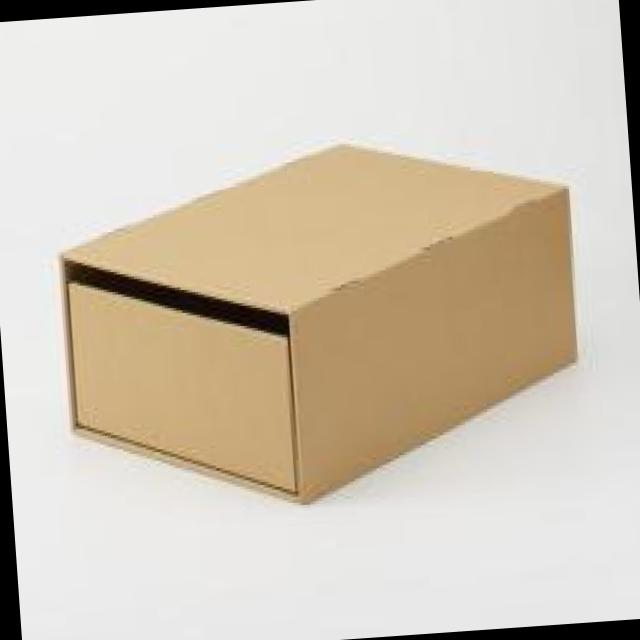box: (160, 159, 479, 480)
